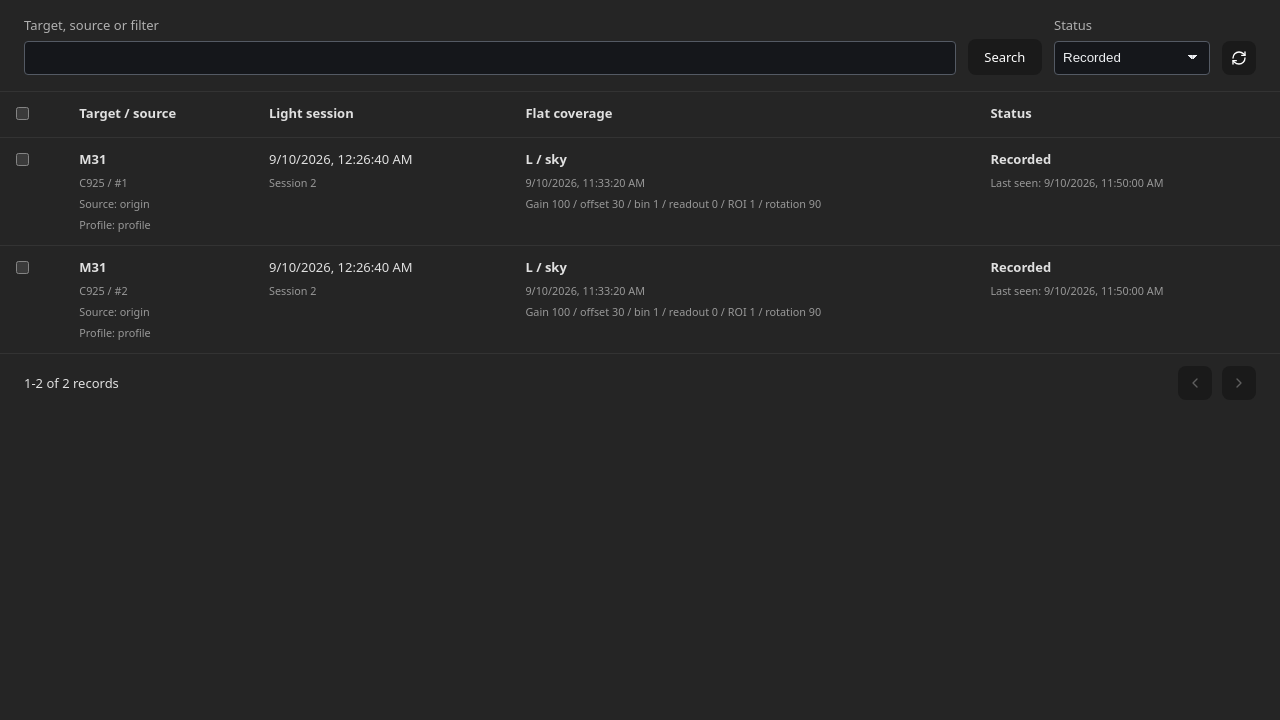
Scenario: scheduler flat coverage › requires a reason and submits exact selected records, including duplicates
Click the checkbox named "Select recorded coverage on this page" at (22, 113), box [16,106,29,120]
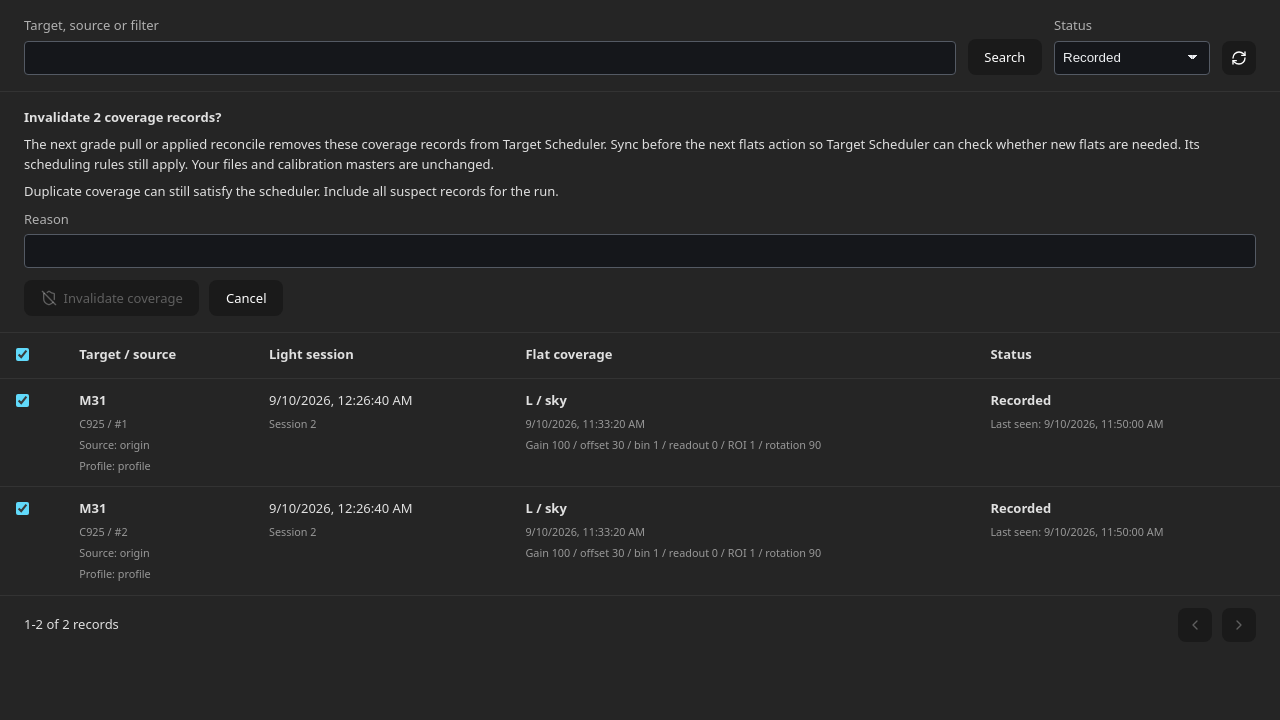
Expected: the button "Invalidate coverage" is disabled, [24,280,199,316]
Expected: the text "Your files and calibration masters are unchanged" is shown, [24,135,1200,172]
Type "  Bright-star artifacts  " into the field labelled "Reason" at (640, 251), box [24,234,1256,268]
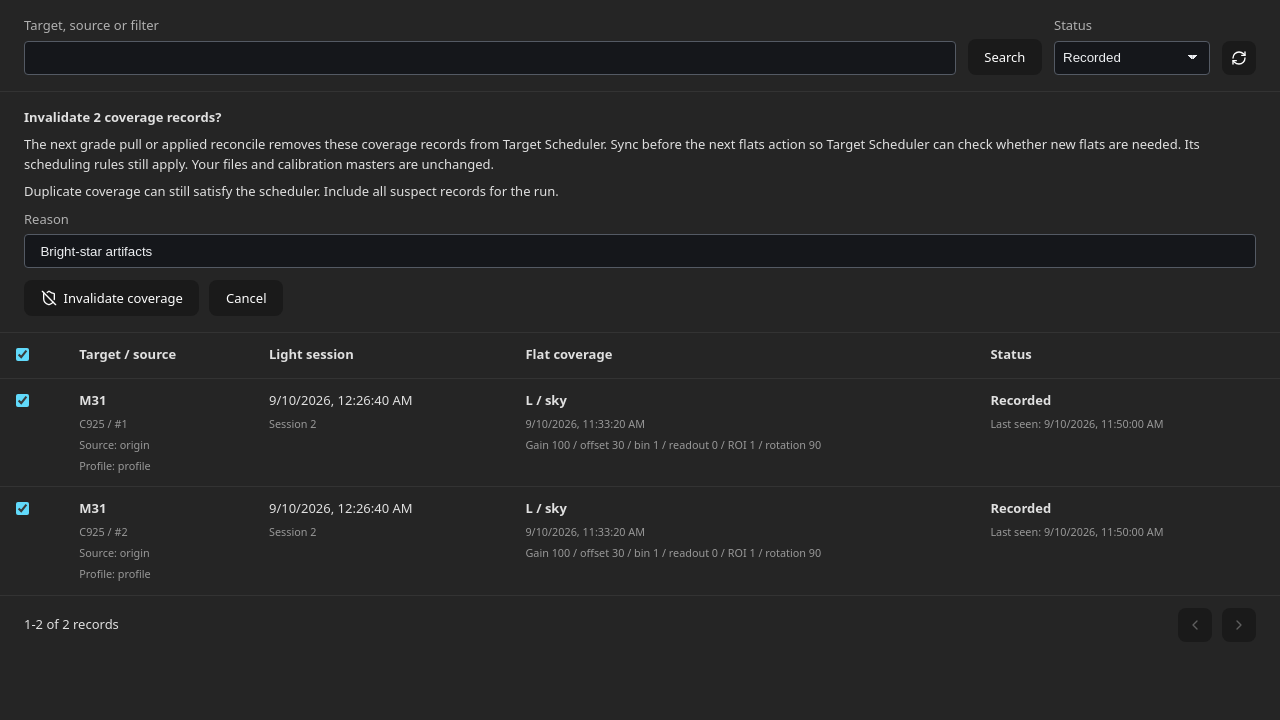
Click the button "Invalidate coverage" at (112, 298), box [24,280,199,316]
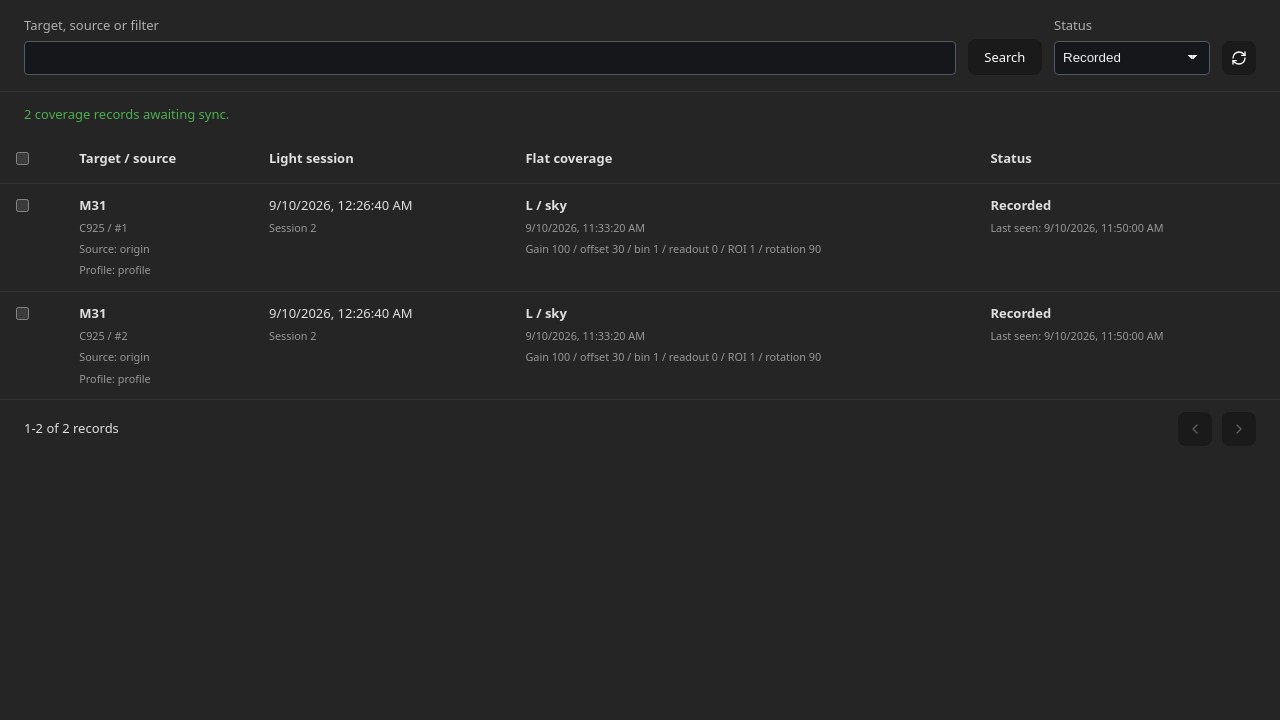
Expected: the message reads "2 coverage records awaiting sync.", [24,104,229,122]
Expected: the label labelled "Reason" is gone
